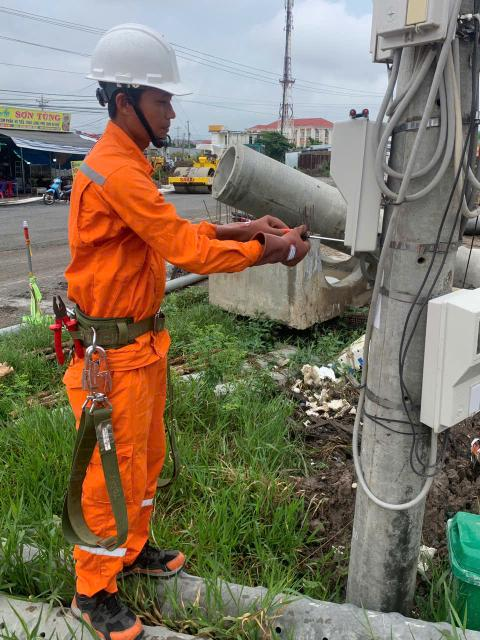gloves: (206, 208, 307, 244), (228, 228, 318, 266)
harness: (60, 288, 180, 365)
helmet: (88, 9, 203, 111)
shoes: (78, 586, 158, 640), (110, 539, 182, 583)
